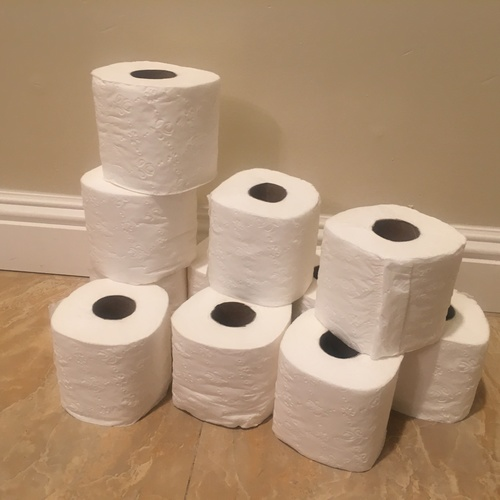roll: (314, 203, 468, 359), (272, 306, 404, 468), (170, 285, 295, 429), (89, 60, 220, 195), (50, 278, 167, 423), (206, 169, 320, 306), (80, 161, 197, 284), (390, 292, 489, 422)
